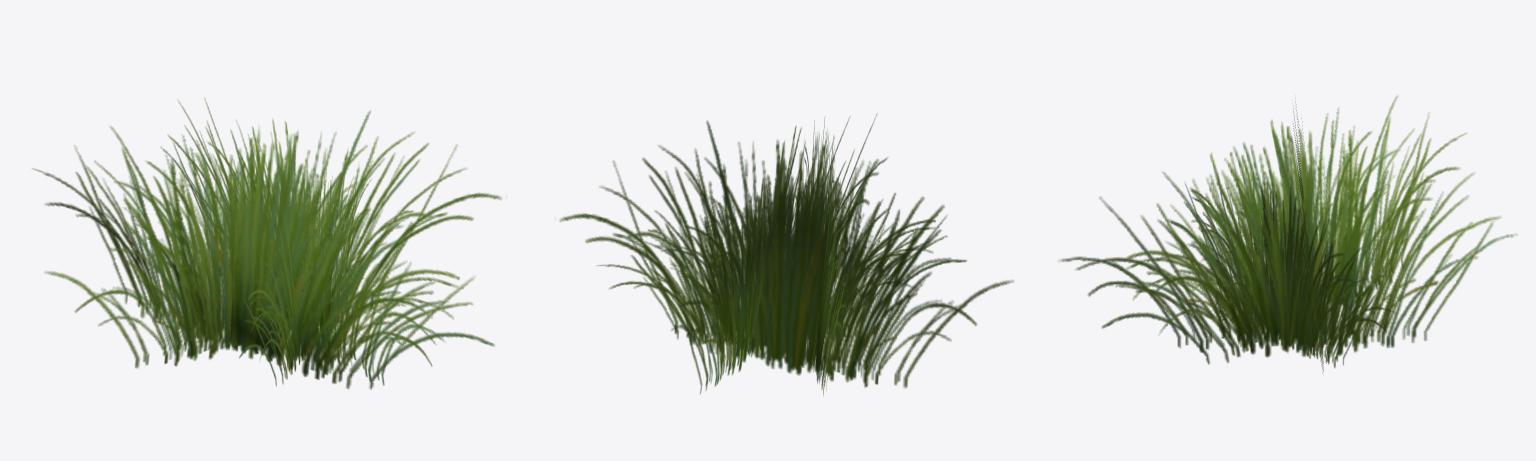
Rendered from nenco.glb.
3 renders of one model, left to right at view 1: azimuth 30°, elevation 25°; view 2: azimuth 150°, elevation 25°; view 3: azimuth 270°, elevation 25°, orthographic. The views are drawn at different scales.
Parts seen in each view (by area): view 1: Grass medium 1; view 2: Grass medium 1; view 3: Grass medium 1.
Part boxes in pixels (<box>): Grass medium 1: <box>32,98,501,389</box>; Grass medium 1: <box>560,113,1013,395</box>; Grass medium 1: <box>1059,95,1516,375</box>.
Size of the model in its own units: 0.3876 by 0.2339 by 0.3657.
1 material, 1 textured.
